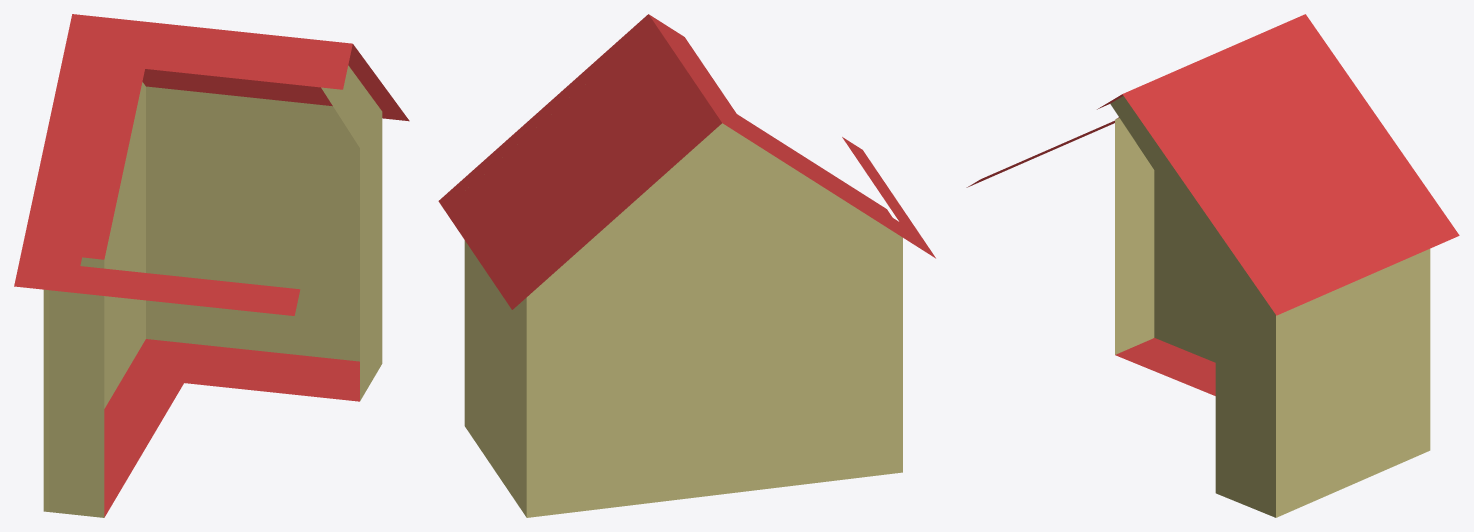
The picture shows the model from 3 angles, left to right: view 1: azimuth 30°, elevation 25°; view 2: azimuth 150°, elevation 25°; view 3: azimuth 270°, elevation 25°; orthographic projection. The views are drawn at different scales.
Size of the model in its own units: 17.66 by 17.81 by 14.83.
